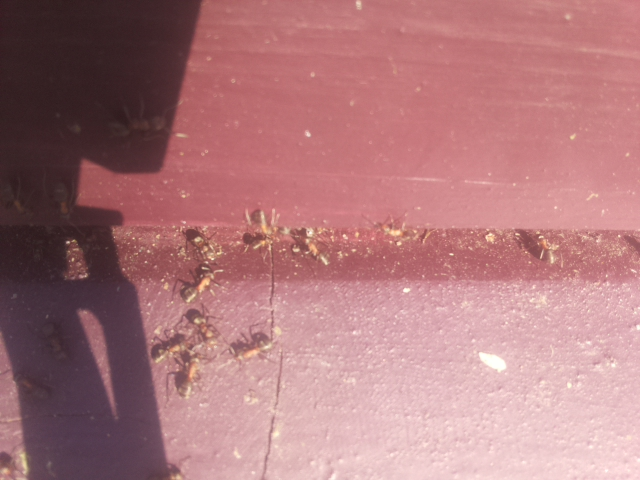ant: (177, 299, 224, 353), (176, 219, 222, 268), (293, 225, 333, 268), (38, 319, 74, 364), (147, 331, 191, 367), (174, 351, 202, 406), (233, 332, 279, 364), (47, 174, 78, 220), (179, 271, 216, 306), (530, 228, 558, 268), (239, 230, 276, 250), (0, 448, 21, 480)
